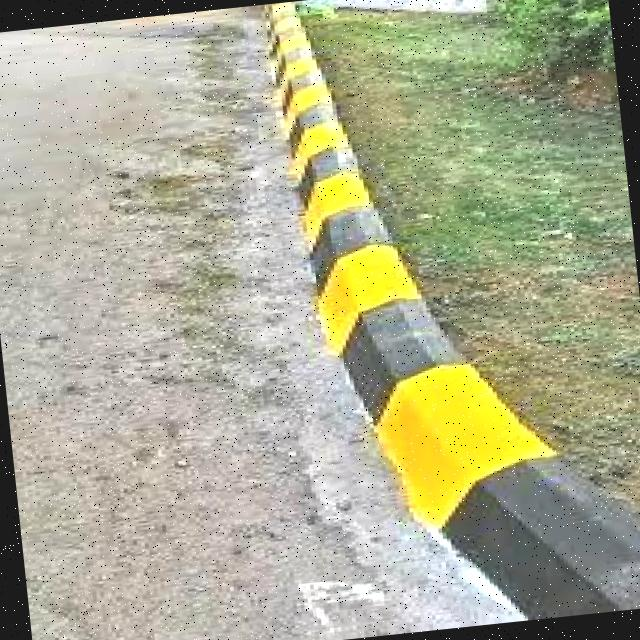curb: (355, 351, 640, 636), (256, 1, 416, 383)
